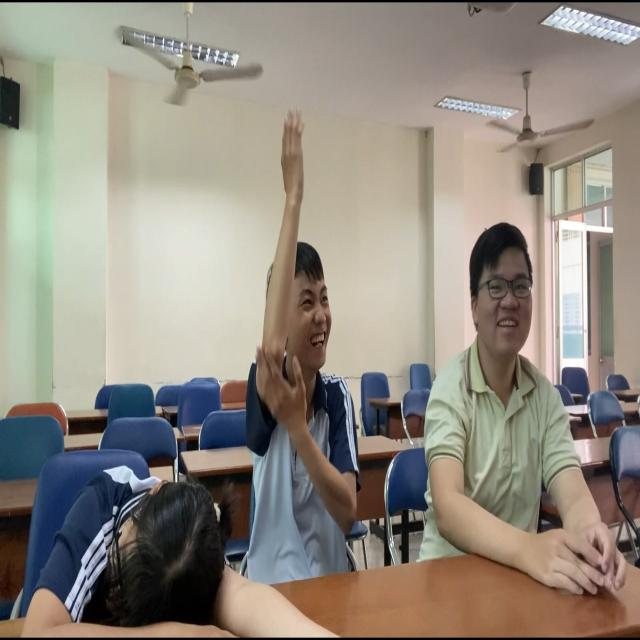raise_hand: (258, 108, 364, 570)
sleep: (1, 437, 240, 640)
